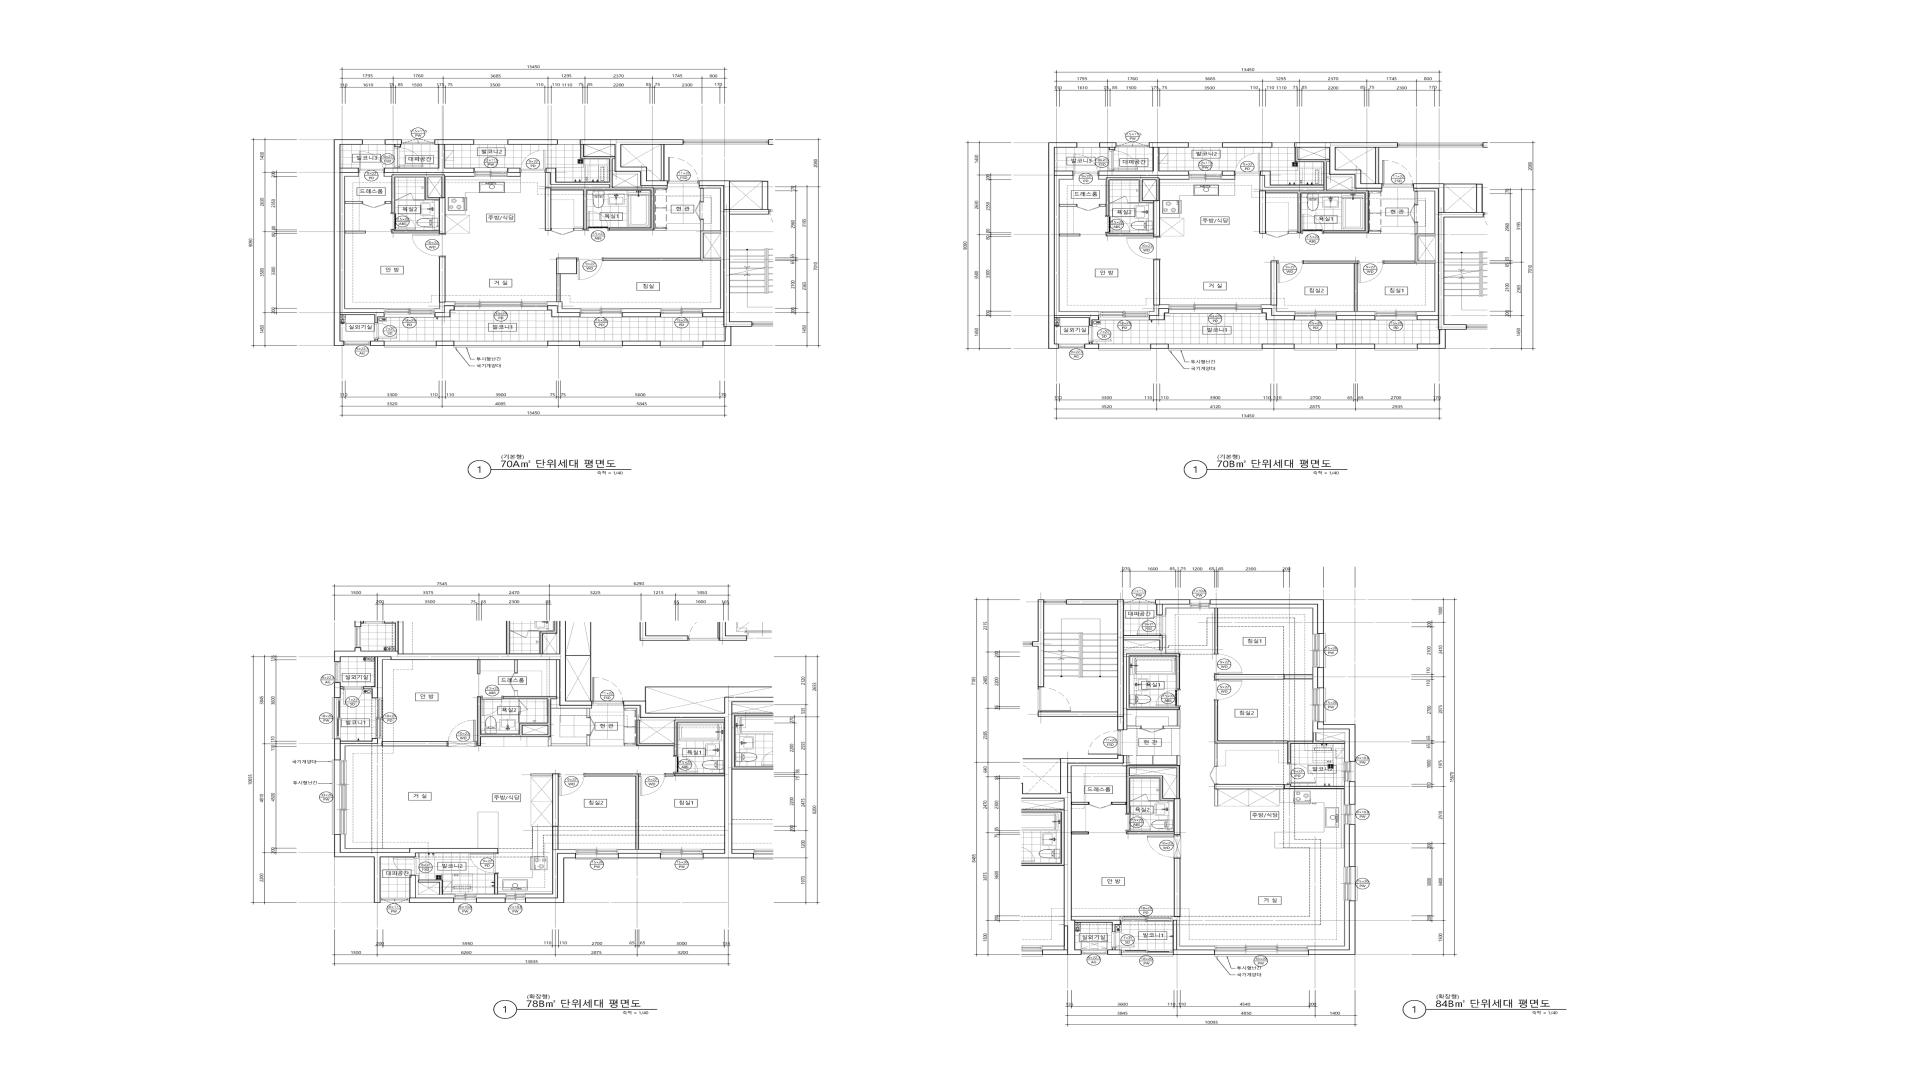door: (1382, 160, 1414, 187), (667, 157, 699, 183), (1038, 687, 1071, 712), (1088, 731, 1121, 756), (1126, 236, 1160, 260), (447, 720, 477, 746), (592, 678, 624, 703), (1147, 835, 1180, 858), (413, 233, 446, 257), (1137, 615, 1166, 636), (1109, 150, 1138, 171), (469, 853, 498, 874), (1234, 153, 1261, 175), (520, 150, 546, 173), (1215, 679, 1242, 700), (1288, 764, 1316, 785), (394, 148, 423, 167), (1358, 261, 1383, 284), (1278, 261, 1304, 282), (576, 258, 603, 280), (638, 774, 665, 795), (558, 774, 584, 795), (1215, 654, 1242, 674), (359, 152, 384, 173), (1073, 154, 1098, 175), (393, 857, 419, 876), (1126, 814, 1151, 832), (1302, 214, 1324, 233), (587, 211, 609, 231), (480, 696, 502, 716), (674, 756, 698, 774), (1156, 690, 1180, 707), (1106, 216, 1130, 233), (392, 214, 415, 229), (1112, 932, 1134, 948), (1089, 326, 1112, 342), (375, 323, 397, 339), (343, 687, 363, 704), (695, 200, 704, 220), (509, 673, 518, 691), (1141, 727, 1163, 733), (1089, 802, 1112, 808), (1077, 204, 1100, 211), (1266, 231, 1288, 237), (551, 228, 574, 235), (363, 202, 385, 208), (1130, 794, 1149, 802), (1209, 766, 1217, 785), (1410, 204, 1418, 223), (587, 717, 595, 736), (396, 193, 413, 200), (518, 699, 527, 712), (1110, 196, 1127, 203)
wall: (334, 621, 592, 705), (624, 698, 732, 858), (1038, 600, 1163, 731), (1060, 756, 1124, 955), (1259, 142, 1398, 233), (1414, 183, 1484, 349), (699, 181, 769, 345), (334, 835, 498, 903), (1048, 142, 1098, 349), (334, 140, 384, 345), (545, 145, 654, 231), (1215, 700, 1345, 764), (1055, 175, 1098, 315), (340, 173, 384, 313), (603, 220, 720, 261), (580, 140, 683, 186), (1112, 766, 1180, 835), (584, 774, 640, 849), (1124, 636, 1166, 731), (477, 696, 556, 746), (1209, 600, 1324, 634), (1211, 604, 1317, 634), (699, 186, 724, 313), (1106, 178, 1160, 236), (1414, 189, 1437, 315), (384, 140, 475, 173), (1126, 654, 1180, 709), (1098, 142, 1188, 175), (1303, 261, 1358, 311), (525, 853, 576, 903), (1308, 901, 1356, 955), (525, 849, 576, 898), (551, 659, 592, 717), (1068, 756, 1127, 793), (392, 174, 444, 214), (1308, 901, 1349, 949), (1327, 162, 1382, 191), (1317, 721, 1356, 762), (1312, 721, 1349, 762), (613, 160, 667, 187), (624, 705, 724, 720), (1172, 920, 1215, 955), (1172, 916, 1215, 949), (409, 876, 454, 903), (340, 835, 409, 852), (566, 655, 591, 700), (1033, 600, 1044, 687), (1259, 175, 1324, 191), (334, 738, 378, 761), (340, 738, 382, 761), (415, 876, 454, 898), (1215, 785, 1345, 790), (377, 657, 390, 698), (1155, 600, 1191, 615), (1215, 674, 1312, 679), (549, 736, 589, 746), (1419, 236, 1436, 261), (553, 774, 558, 849), (1174, 858, 1180, 918), (1262, 309, 1295, 320), (418, 880, 443, 894), (384, 173, 475, 177), (1098, 175, 1188, 179), (1262, 305, 1295, 315), (547, 306, 580, 316), (547, 302, 580, 313), (381, 741, 447, 746), (1163, 709, 1180, 729), (556, 257, 576, 274), (1154, 260, 1160, 306), (1271, 261, 1278, 306), (439, 257, 446, 302), (1163, 604, 1191, 615), (1142, 181, 1156, 200), (1349, 824, 1356, 866), (508, 140, 558, 145), (1222, 142, 1273, 148), (439, 198, 446, 233), (1149, 309, 1168, 320), (1344, 824, 1349, 866), (618, 853, 661, 858), (1336, 315, 1375, 320), (1149, 305, 1168, 315), (435, 306, 455, 316), (435, 302, 455, 313), (1337, 344, 1375, 349), (1072, 916, 1121, 920), (392, 229, 439, 233), (1215, 608, 1218, 654), (618, 849, 661, 853), (1262, 344, 1294, 349), (1336, 311, 1375, 315), (476, 898, 505, 903), (622, 309, 661, 313), (622, 342, 661, 345), (622, 313, 661, 316), (1349, 782, 1356, 804), (1375, 148, 1379, 183), (661, 145, 665, 181), (1317, 667, 1324, 688), (385, 140, 402, 148), (1100, 142, 1117, 150), (334, 683, 343, 698), (547, 342, 579, 345), (1344, 782, 1349, 804), (476, 894, 505, 898), (1084, 342, 1098, 349), (1312, 667, 1317, 688), (508, 167, 520, 177), (556, 274, 560, 302), (1151, 344, 1168, 349), (1108, 948, 1121, 955), (371, 339, 384, 345), (703, 849, 724, 853), (1383, 261, 1415, 264), (1215, 790, 1218, 807), (436, 342, 454, 345), (1215, 744, 1217, 766), (530, 774, 553, 777), (514, 659, 518, 673), (345, 231, 365, 233), (700, 189, 704, 202), (495, 874, 497, 894), (1222, 175, 1234, 179), (1222, 171, 1234, 175), (345, 202, 363, 204), (1444, 183, 1477, 185), (731, 181, 762, 182), (477, 659, 480, 674), (624, 744, 637, 746), (1369, 231, 1381, 233), (654, 228, 666, 231), (1178, 756, 1180, 766), (574, 228, 584, 231), (1288, 231, 1298, 233), (1100, 204, 1106, 207), (385, 202, 392, 204), (415, 853, 419, 857), (413, 199, 425, 200), (1149, 800, 1159, 802), (518, 712, 520, 723), (514, 691, 517, 696), (1127, 203, 1139, 203)
window: (332, 761, 347, 835), (1215, 945, 1308, 956), (1168, 305, 1262, 314), (455, 302, 547, 310), (1168, 344, 1262, 351), (454, 342, 547, 348), (384, 309, 435, 318), (1098, 311, 1149, 320), (1344, 866, 1357, 901), (661, 849, 703, 860), (576, 849, 618, 860), (1312, 688, 1325, 721), (1312, 634, 1325, 667), (1375, 311, 1418, 320), (1295, 311, 1337, 320), (661, 309, 703, 318), (580, 309, 622, 318), (1098, 344, 1151, 351), (384, 342, 436, 348), (332, 698, 340, 738), (475, 167, 508, 177), (1294, 344, 1337, 351), (1374, 344, 1418, 351), (579, 342, 622, 348), (1121, 951, 1174, 956), (661, 342, 703, 348), (1121, 916, 1172, 922), (1188, 171, 1222, 179), (376, 698, 382, 738), (1344, 804, 1356, 824), (1344, 762, 1356, 782), (1117, 141, 1149, 148), (402, 138, 434, 145), (454, 894, 476, 903), (380, 898, 409, 905), (505, 894, 525, 903), (1188, 142, 1222, 148), (473, 140, 508, 145), (1124, 599, 1155, 604), (1191, 600, 1211, 608), (334, 662, 340, 683), (1059, 344, 1084, 349), (1077, 142, 1100, 148), (1273, 142, 1295, 148), (363, 140, 385, 145), (558, 140, 580, 145), (1081, 951, 1108, 955), (344, 342, 371, 345), (1044, 600, 1067, 604)
